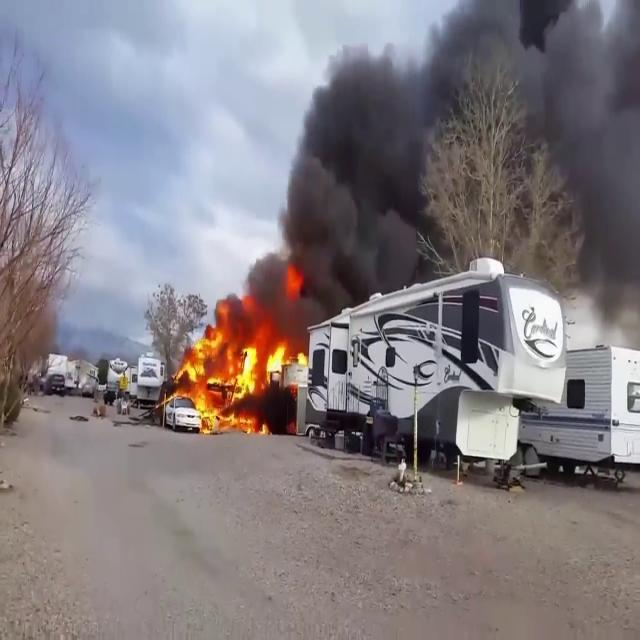Fire: (176, 313, 304, 430)
Smoke: (244, 8, 470, 316), (508, 0, 640, 344)
